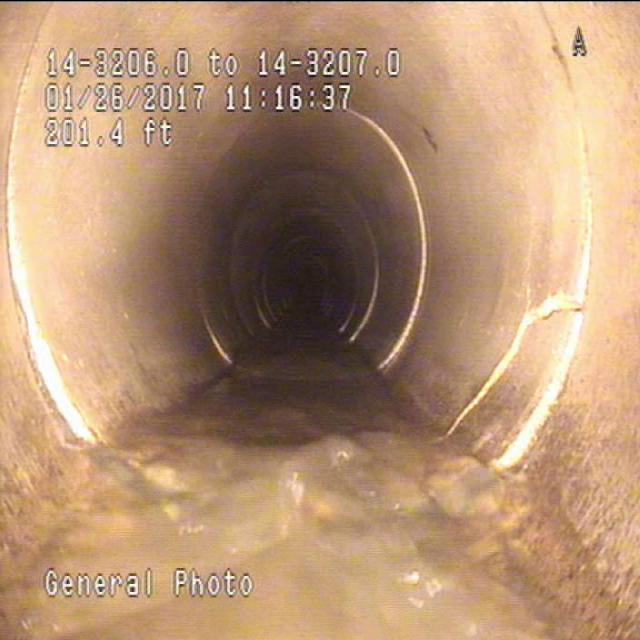Crack: (451, 280, 609, 448)
